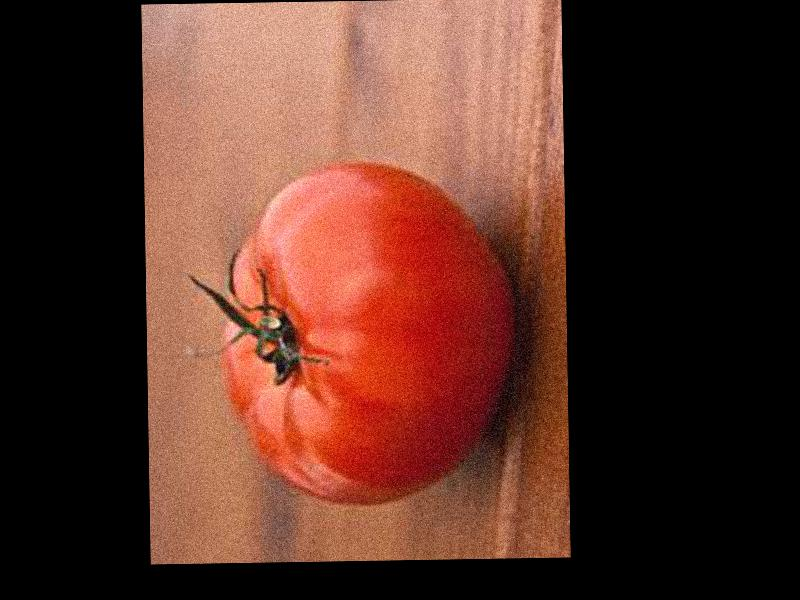Tomato: (220, 156, 517, 505)
